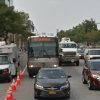Bus: (23, 29, 61, 72)
